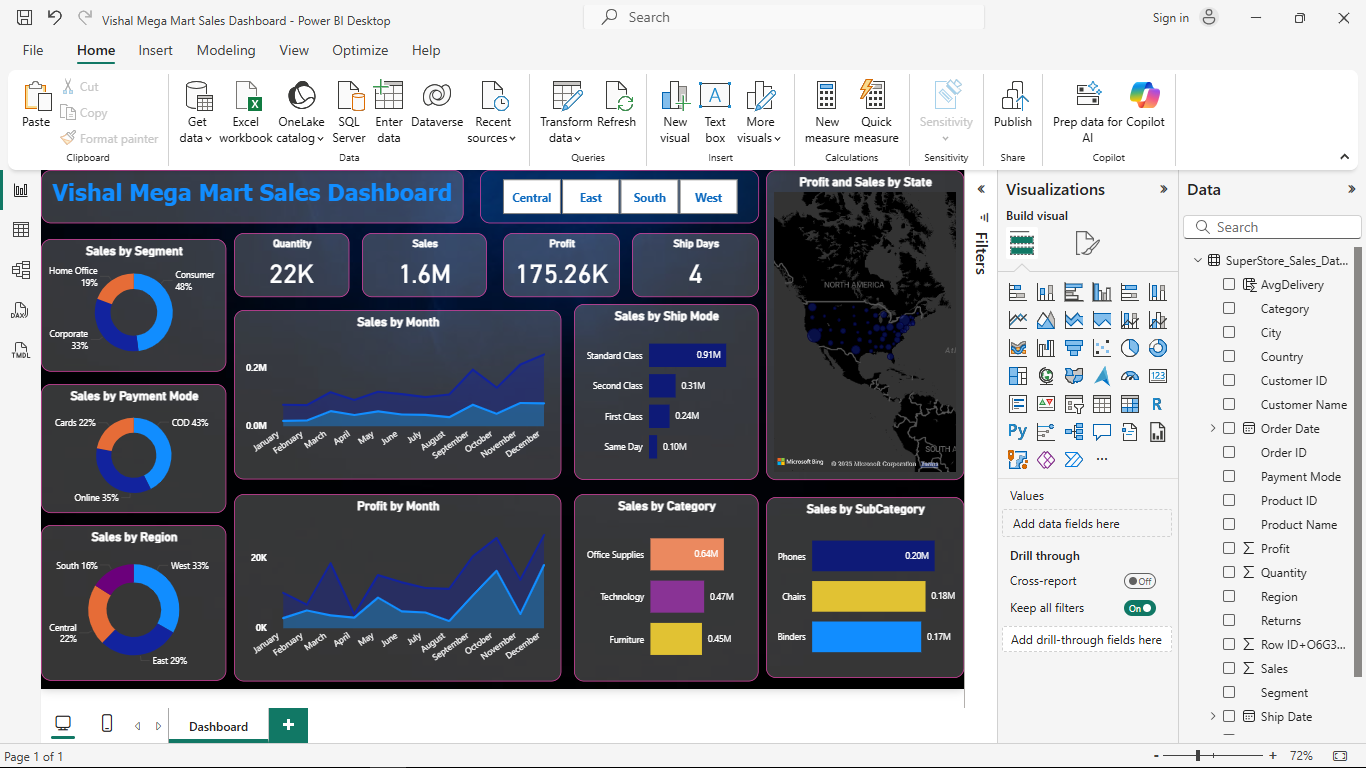

This screenshot's page, from the dashboard's own definition file:
{"tool":"powerbi","page":{"name":"Dashboard","canvas":[1280,720],"ordinal":0},"visuals":[{"type":"clusteredBarChart","title":"Sales by Category","fields":{"Category":["SuperStore_Sales_Dataset.Category"],"Y":["Sum(SuperStore_Sales_Dataset.Sales)"]},"box":[739.1,448.7,256,260.1],"z":0},{"type":"clusteredBarChart","title":"Sales by SubCategory","fields":{"Category":["SuperStore_Sales_Dataset.Sub-Category"],"Y":["Sum(SuperStore_Sales_Dataset.Sales)"]},"box":[1005.4,453.5,274.6,251],"z":1},{"type":"clusteredBarChart","title":"Sales by Ship Mode","fields":{"Category":["SuperStore_Sales_Dataset.Ship Mode"],"Y":["Sum(SuperStore_Sales_Dataset.Sales)"]},"box":[739.1,185.8,256,243.6],"z":2},{"type":"stackedAreaChart","title":"Sales by Month","fields":{"Y":["Sum(SuperStore_Sales_Dataset.Sales)"],"Category":["SuperStore_Sales_Dataset.Order Date.Variation.Date Hierarchy.Month","SuperStore_Sales_Dataset.Order Date.Variation.Date Hierarchy.Day"],"Series":["SuperStore_Sales_Dataset.Order Date.Variation.Date Hierarchy.Year"]},"box":[267,194.1,454.2,235.4],"z":3},{"type":"stackedAreaChart","title":"Profit by Month","fields":{"Category":["SuperStore_Sales_Dataset.Order Date.Variation.Date Hierarchy.Month","SuperStore_Sales_Dataset.Order Date.Variation.Date Hierarchy.Day"],"Series":["SuperStore_Sales_Dataset.Order Date.Variation.Date Hierarchy.Year"],"Y":["Sum(SuperStore_Sales_Dataset.Profit)"]},"box":[267,448.7,454.2,260.1],"z":4},{"type":"map","title":"Profit and Sales by State","fields":{"Category":["SuperStore_Sales_Dataset.State"],"Size":["Sum(SuperStore_Sales_Dataset.Sales)"]},"box":[1005.4,0,274.6,429.9],"z":5},{"type":"donutChart","title":"Sales by Segment","fields":{"Category":["SuperStore_Sales_Dataset.Segment"],"Y":["Sum(SuperStore_Sales_Dataset.Sales)"]},"box":[0,96.3,257.4,184.4],"z":6},{"type":"donutChart","title":"Sales by Payment Mode","fields":{"Category":["SuperStore_Sales_Dataset.Payment Mode"],"Y":["Sum(SuperStore_Sales_Dataset.Sales)"]},"box":[0,297.3,257.4,178.9],"z":7},{"type":"slicer","fields":{"Values":["SuperStore_Sales_Dataset.Region"]},"box":[608.3,0,386.8,74.3],"z":8},{"type":"textbox","box":[0,0,586.3,74.3],"z":9},{"type":"card","title":"Sales","fields":{"Values":["Sum(SuperStore_Sales_Dataset.Sales)"]},"box":[444.6,86.7,173.4,89.5],"z":10},{"type":"card","title":"Quantity","fields":{"Values":["Sum(SuperStore_Sales_Dataset.Quantity)"]},"box":[267,86.7,159.7,89.5],"z":11},{"type":"card","title":"Profit","fields":{"Values":["Sum(SuperStore_Sales_Dataset.Profit)"]},"box":[640,86.7,162.4,89.5],"z":12},{"type":"card","title":"Ship Days","fields":{"Values":["Avg(SuperStore_Sales_Dataset.AvgDelivery)"]},"box":[818.9,86.7,176.2,89.5],"z":13},{"type":"donutChart","title":"Sales by Region","fields":{"Category":["SuperStore_Sales_Dataset.Region"],"Y":["Sum(SuperStore_Sales_Dataset.Sales)"]},"box":[0,492.7,257.4,216.1],"z":14}]}

Visuals, with their boxes on the page's 1280x720 design canvas (x1, y1, x2, y2). These are canvas units, not pixel positions in the 1366x768 screenshot, which may show the page scaled, cropped or inside an application window:
"Sales by Category" clusteredBarChart: detection(739, 449, 995, 709)
"Sales by SubCategory" clusteredBarChart: detection(1005, 454, 1280, 704)
"Sales by Ship Mode" clusteredBarChart: detection(739, 186, 995, 429)
"Sales by Month" stackedAreaChart: detection(267, 194, 721, 430)
"Profit by Month" stackedAreaChart: detection(267, 449, 721, 709)
"Profit and Sales by State" map: detection(1005, 0, 1280, 430)
"Sales by Segment" donutChart: detection(0, 96, 257, 281)
"Sales by Payment Mode" donutChart: detection(0, 297, 257, 476)
slicer - SuperStore_Sales_Dataset.Region: detection(608, 0, 995, 74)
textbox: detection(0, 0, 586, 74)
"Sales" card: detection(445, 87, 618, 176)
"Quantity" card: detection(267, 87, 427, 176)
"Profit" card: detection(640, 87, 802, 176)
"Ship Days" card: detection(819, 87, 995, 176)
"Sales by Region" donutChart: detection(0, 493, 257, 709)
